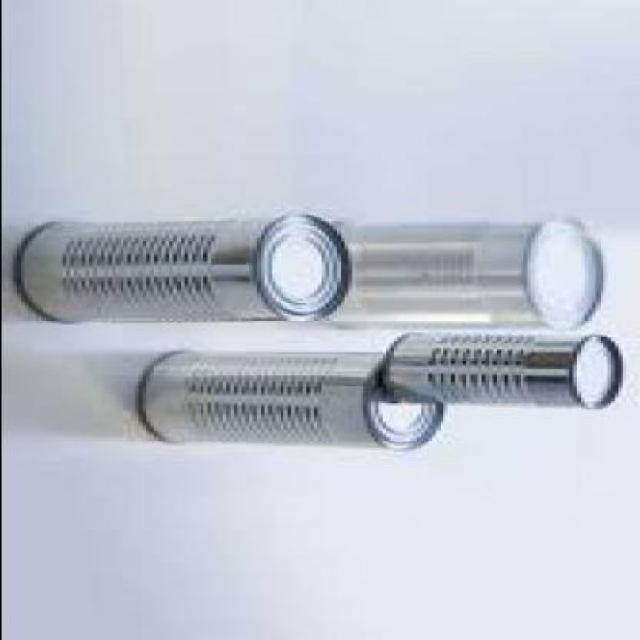METAL: (15, 214, 354, 321), (305, 216, 606, 330), (138, 350, 445, 448), (384, 330, 624, 408)
